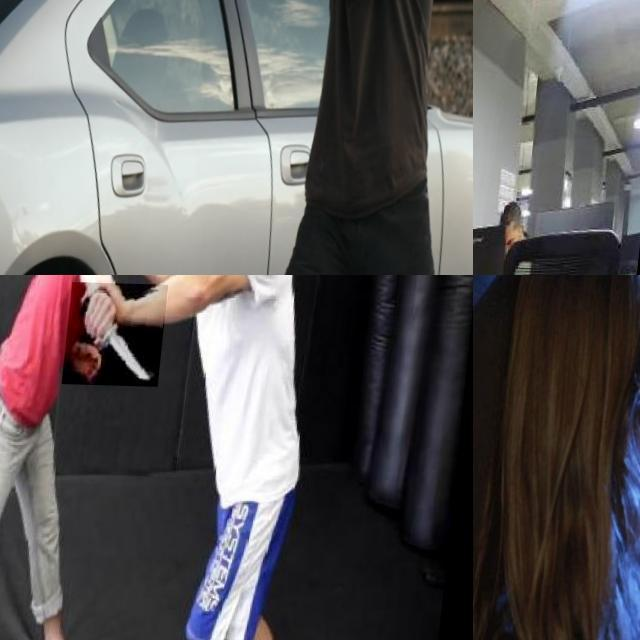-: (69, 281, 173, 385)
gun-knife-thesis - v11 Yolov5 augmented: (255, 0, 309, 47)
